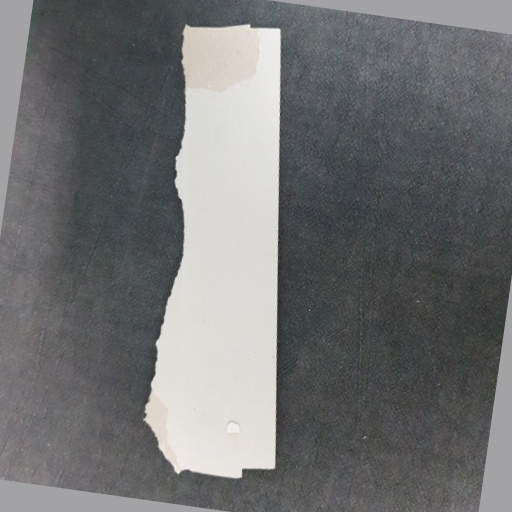Paper_2: (174, 23, 299, 489)
